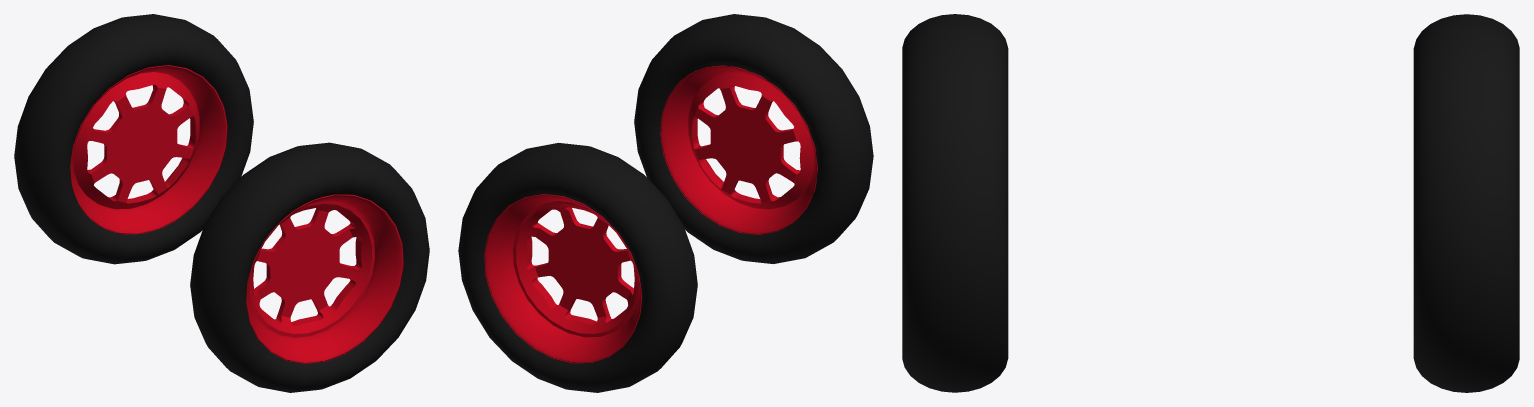
Rendered from bothWheels.DAE.
3 renders of one model, left to right at view 1: azimuth 30°, elevation 25°; view 2: azimuth 150°, elevation 25°; view 3: azimuth 270°, elevation 25°, orthographic. The views are drawn at different scales.
Visible parts, largest first — view 1: Torus10, Torus01, Cylinder16, Cylinder98, Torus09, Torus02; view 2: Torus01, Torus10, Cylinder98, Cylinder16, Torus02, Torus09; view 3: Torus10, Torus01.
Boxes of the visible parts, x1,y1,x2,y2 form: Torus10: [190, 142, 429, 392]; Torus01: [14, 14, 253, 264]; Cylinder16: [73, 72, 199, 209]; Cylinder98: [249, 201, 375, 337]; Torus09: [246, 194, 403, 363]; Torus02: [70, 65, 227, 234]; Torus01: [458, 143, 697, 392]; Torus10: [634, 14, 873, 263]; Cylinder98: [688, 72, 814, 209]; Cylinder16: [513, 201, 638, 337]; Torus02: [484, 194, 641, 363]; Torus09: [660, 65, 817, 234]; Torus10: [902, 14, 1008, 392]; Torus01: [1413, 14, 1519, 392].
Bounding box in the file's own units: 24.04 × 39.04 × 24.06.
